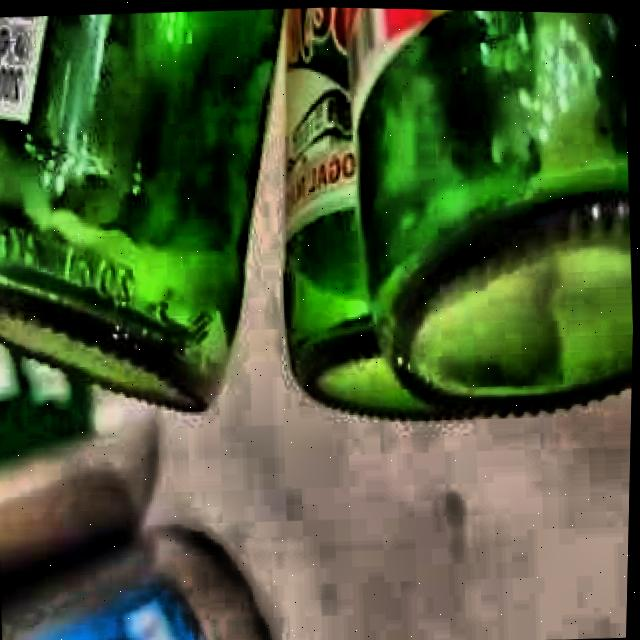glass: (286, 5, 635, 417), (0, 6, 283, 407)
